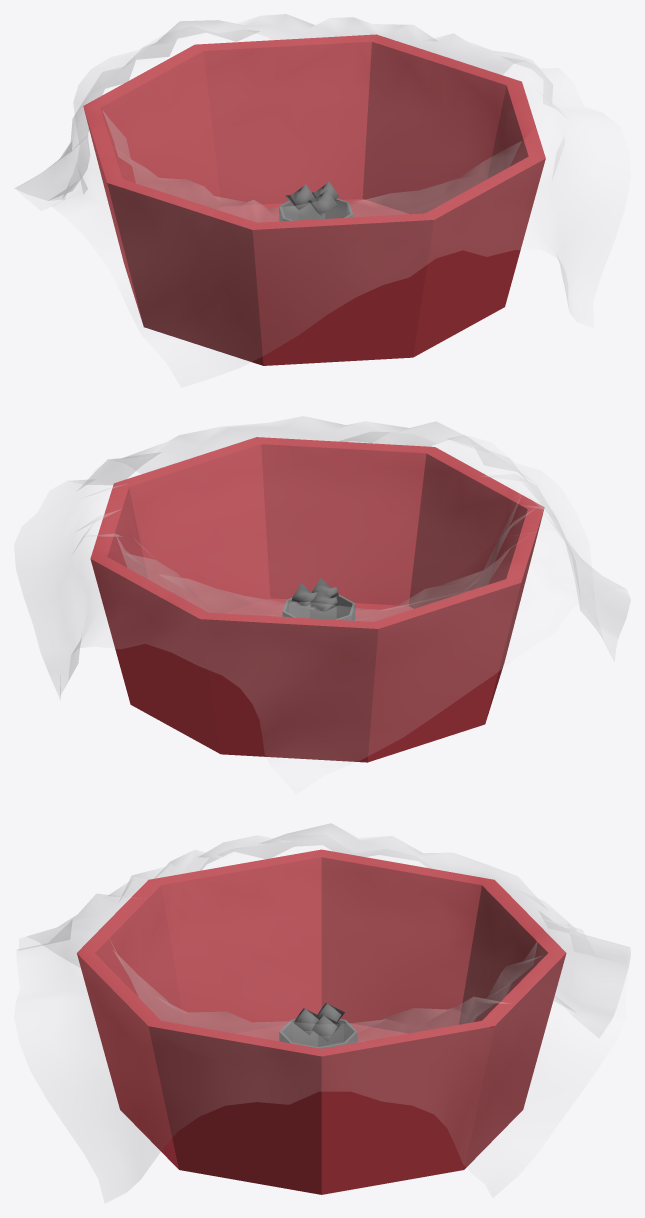
The model's file is Solar Destilasi.fbx.
3 views of the same model, one above another, from view 1: azimuth 30°, elevation 25°; view 2: azimuth 150°, elevation 25°; view 3: azimuth 270°, elevation 25° (orthographic). The views are drawn at different scales.
Visible parts, largest first — view 1: Solar Destilasi; view 2: Solar Destilasi; view 3: Solar Destilasi.
Boxes of the visible parts, x1=… form: Solar Destilasi: x1=15, y1=14, x2=630, y2=386; Solar Destilasi: x1=14, y1=416, x2=629, y2=793; Solar Destilasi: x1=14, y1=823, x2=630, y2=1202.
Bounding box in the file's own units: 94.61 × 32.22 × 95.01.
